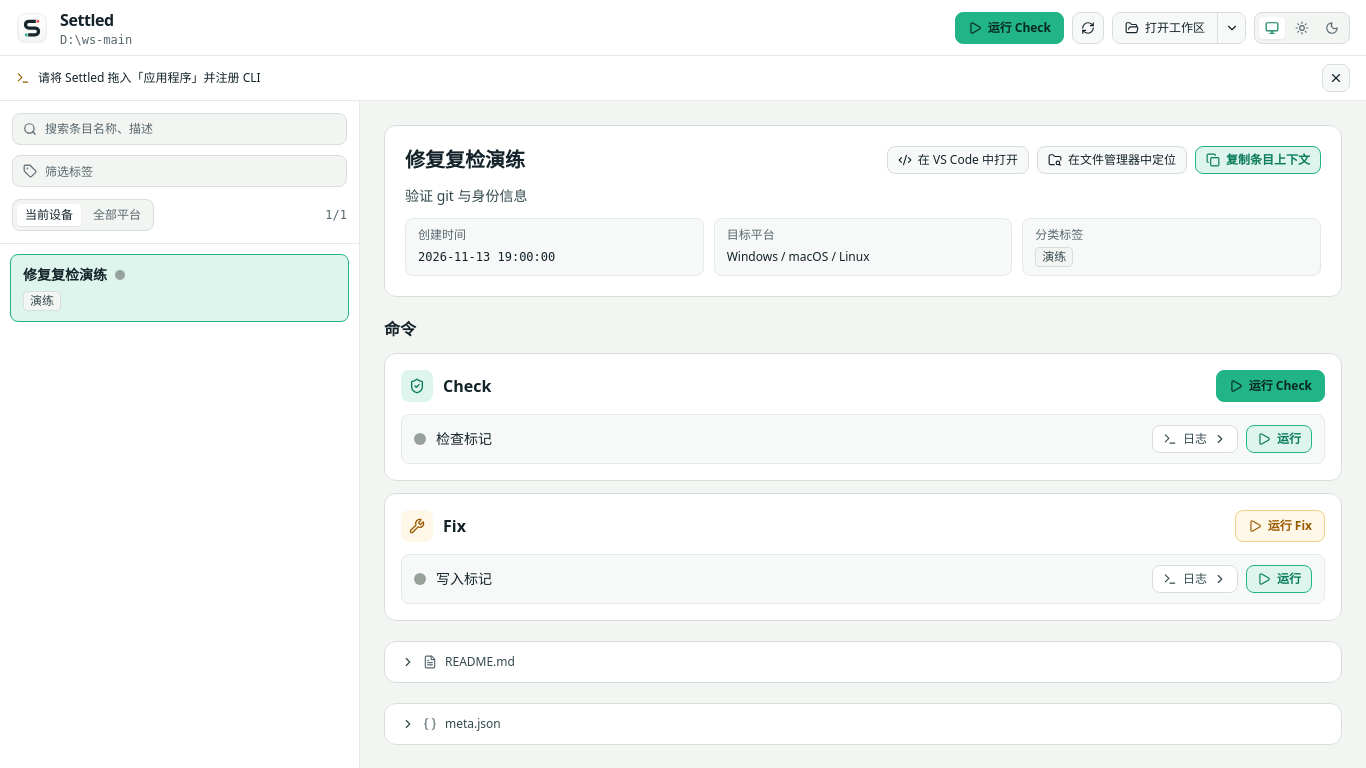
Scenario: App integration › shows Applications move guidance on macOS ephemeral mounts without register button
Check: the text "请将 Settled 拖入「应用程序」并注册 CLI" is shown, box [38,70,261,86]
Click the button named "关闭提示": (1336, 78) [1322,64,1350,92]
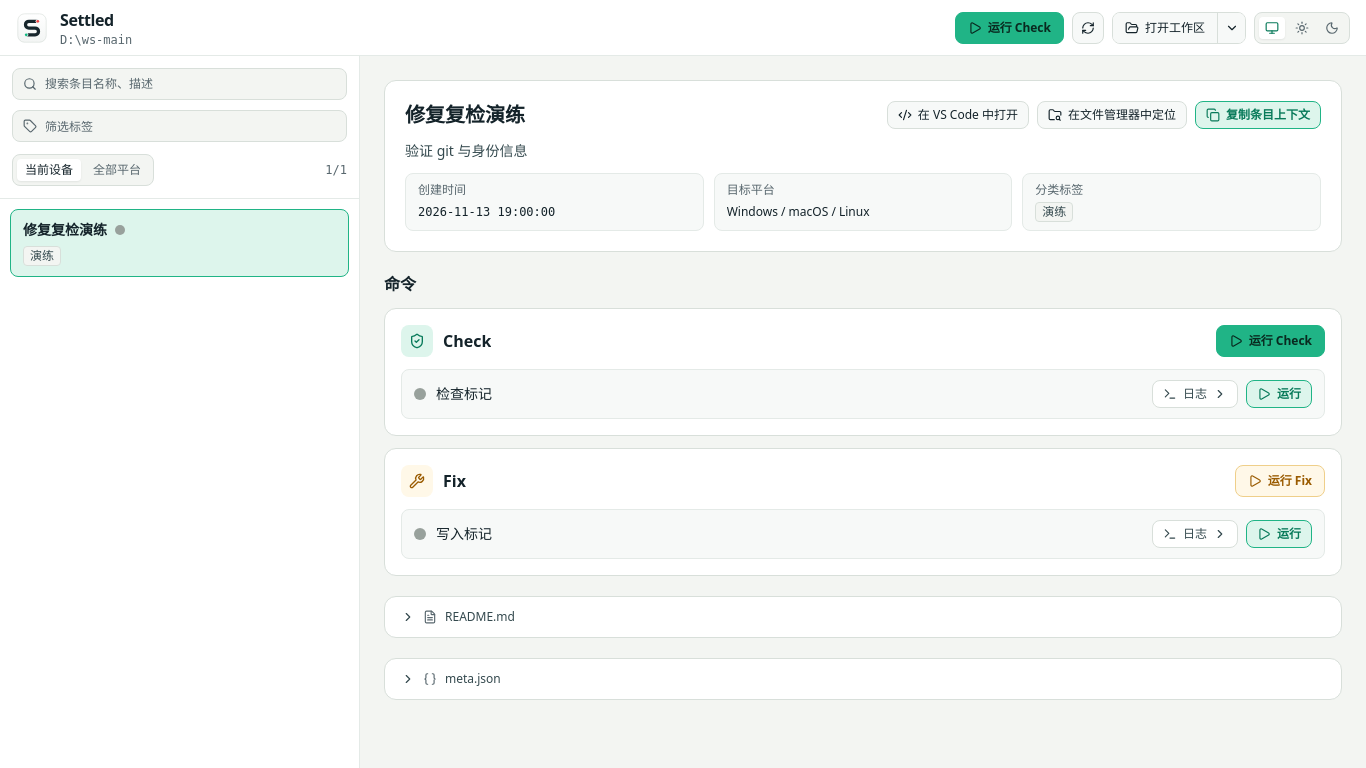
Check: the text "请将 Settled 拖入「应用程序」并注册 CLI" is gone
